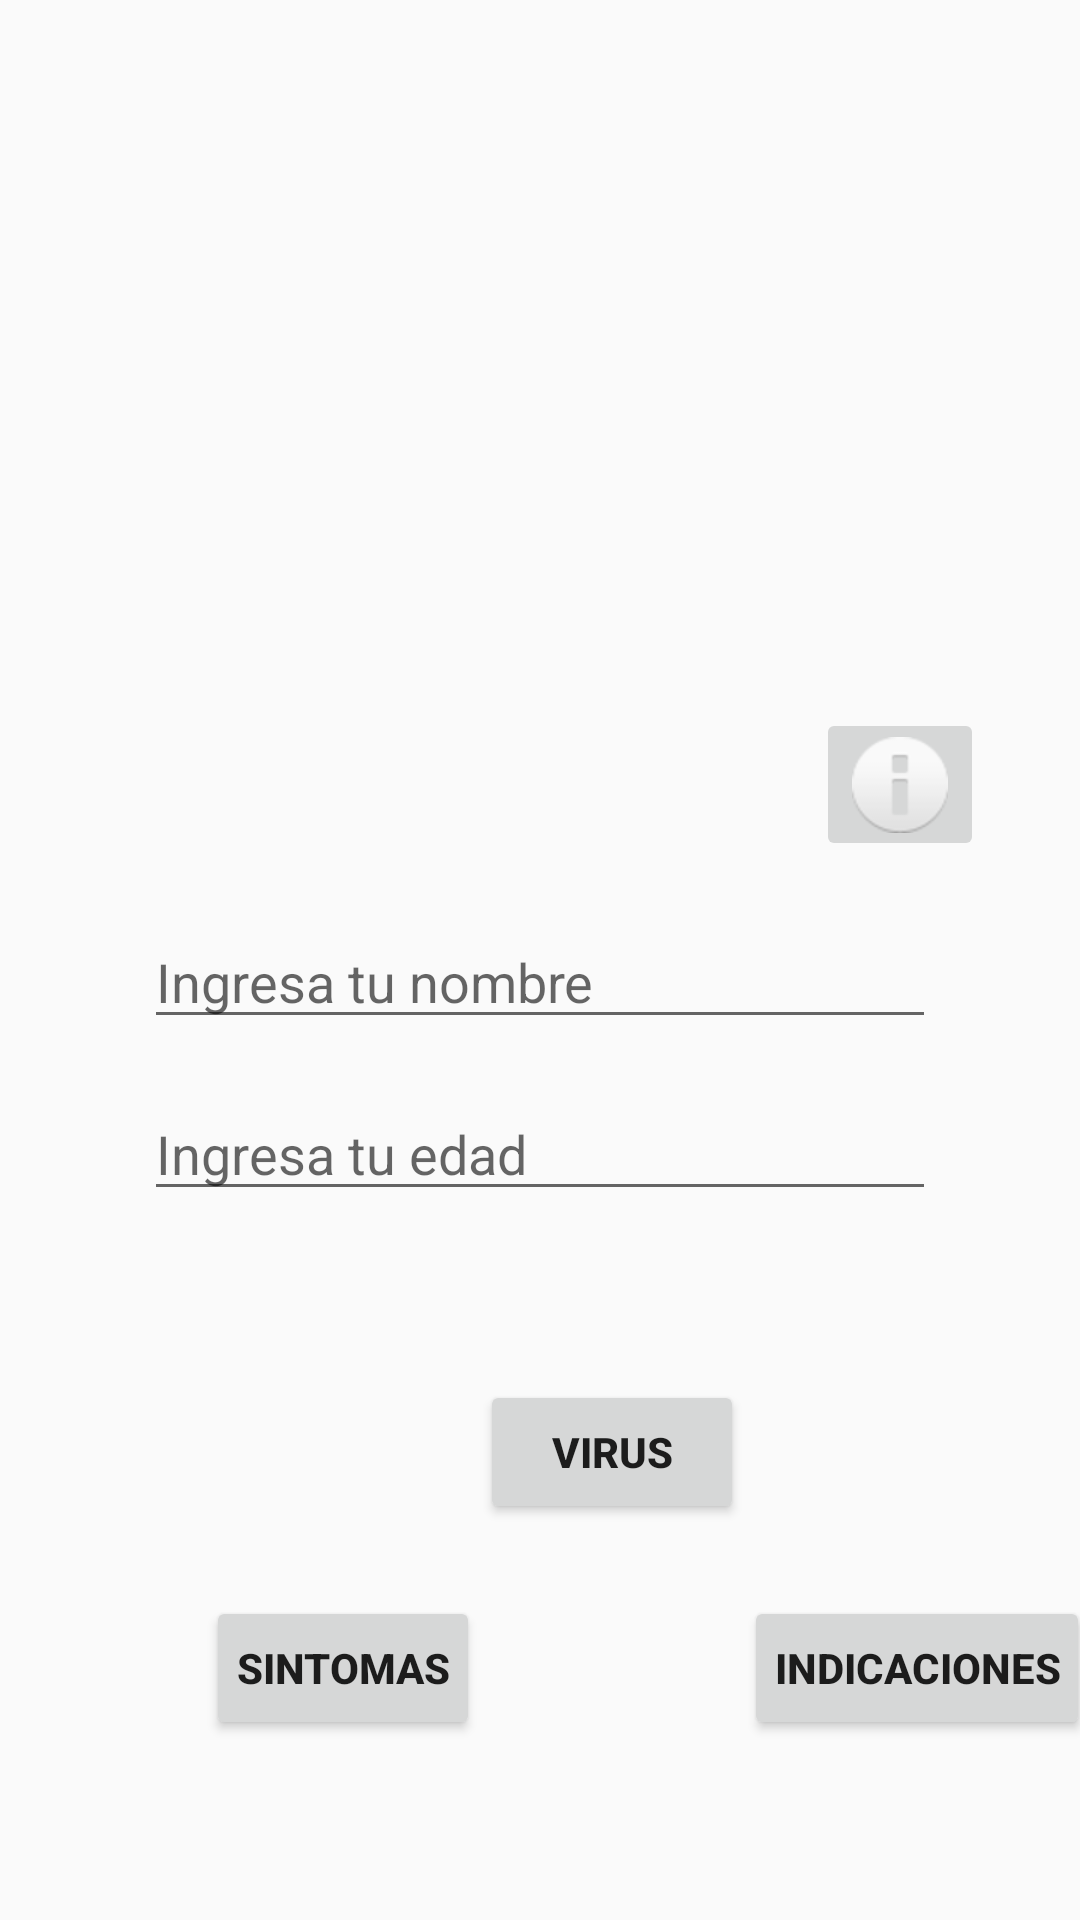

Screen size 1080*1920. Icon name, then its center in pixels as [x,y]:
info: [900,784]
